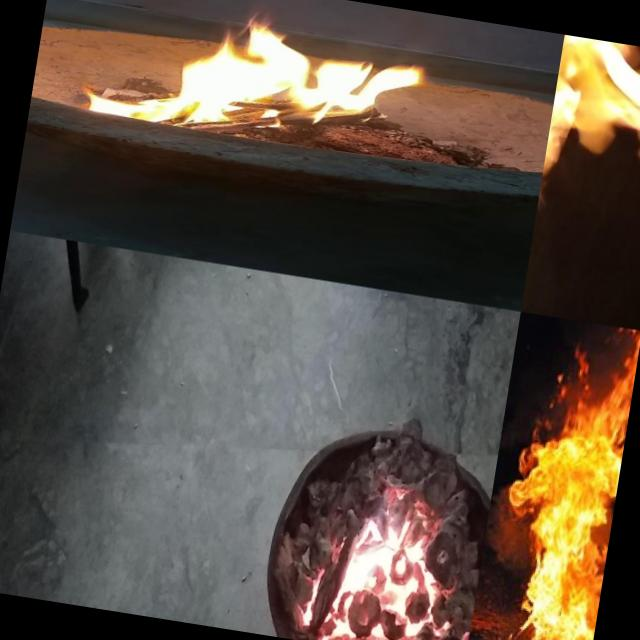fire: (74, 0, 444, 169), (475, 324, 640, 640), (292, 456, 493, 640), (521, 35, 640, 331)
